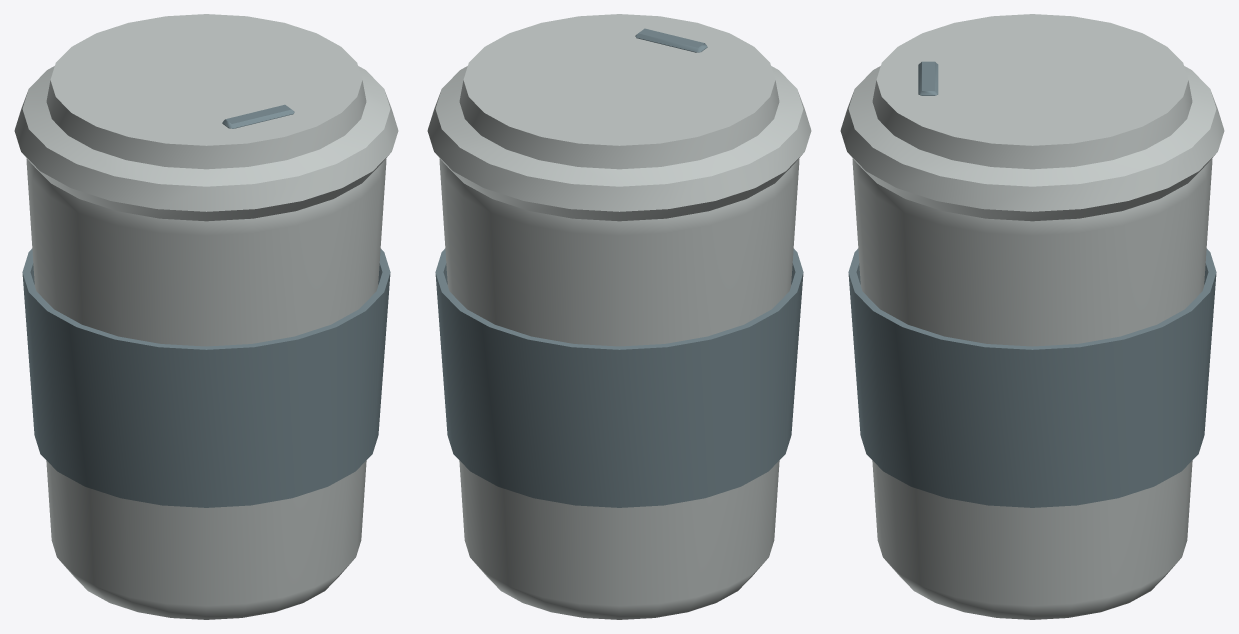
The model's file is takeaway-coffee.glb.
3 views of the same model, side by side, from view 1: azimuth 30°, elevation 25°; view 2: azimuth 150°, elevation 25°; view 3: azimuth 270°, elevation 25° (orthographic).
Visible parts, largest first — view 1: paper_cup, snap_lid, cardboard_sleeve, sip_aperture; view 2: paper_cup, snap_lid, cardboard_sleeve, sip_aperture; view 3: paper_cup, snap_lid, cardboard_sleeve, sip_aperture.
Part boxes in pixels (box(x1,y1,x2,y2)): paper_cup: box(26, 158, 386, 619); snap_lid: box(14, 14, 398, 221); cardboard_sleeve: box(22, 248, 390, 507); sip_aperture: box(222, 104, 294, 128); paper_cup: box(439, 158, 799, 619); snap_lid: box(427, 14, 811, 221); cardboard_sleeve: box(435, 248, 803, 507); sip_aperture: box(635, 28, 707, 52); paper_cup: box(852, 158, 1212, 619); snap_lid: box(840, 14, 1224, 221); cardboard_sleeve: box(848, 248, 1216, 507); sip_aperture: box(918, 61, 938, 95).
Size of the model in its own units: 0.096 by 0.134 by 0.096.
